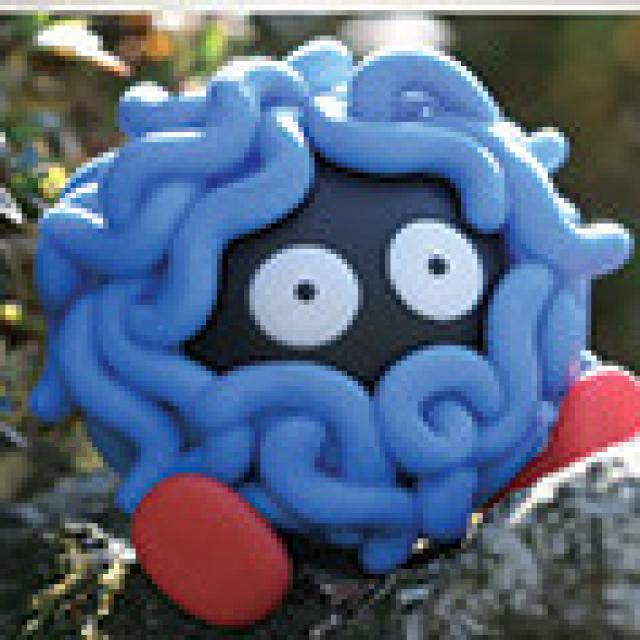Tangela: (21, 60, 640, 620)
